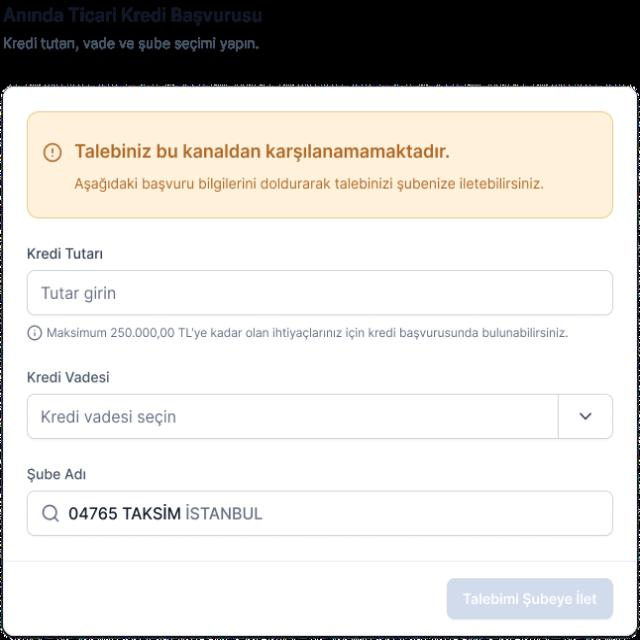QLabel: (68, 174, 546, 197), (46, 325, 573, 342), (74, 142, 454, 163), (2, 6, 272, 23), (461, 586, 605, 612), (2, 38, 266, 51), (22, 243, 112, 263), (25, 368, 113, 386), (22, 467, 89, 483)
VBtn: (446, 577, 614, 619)
VCard: (2, 84, 640, 640), (26, 110, 615, 219)
VCheckbox: (26, 394, 614, 440)
VDivider: (4, 560, 638, 562)
VIcon: (36, 139, 64, 165), (26, 324, 44, 342)
VTextField: (25, 489, 613, 536), (26, 269, 615, 315)
